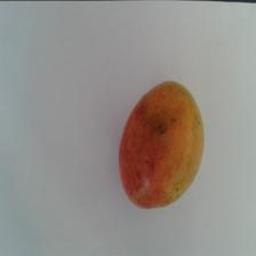Mango Semifresh: (112, 63, 210, 212)
